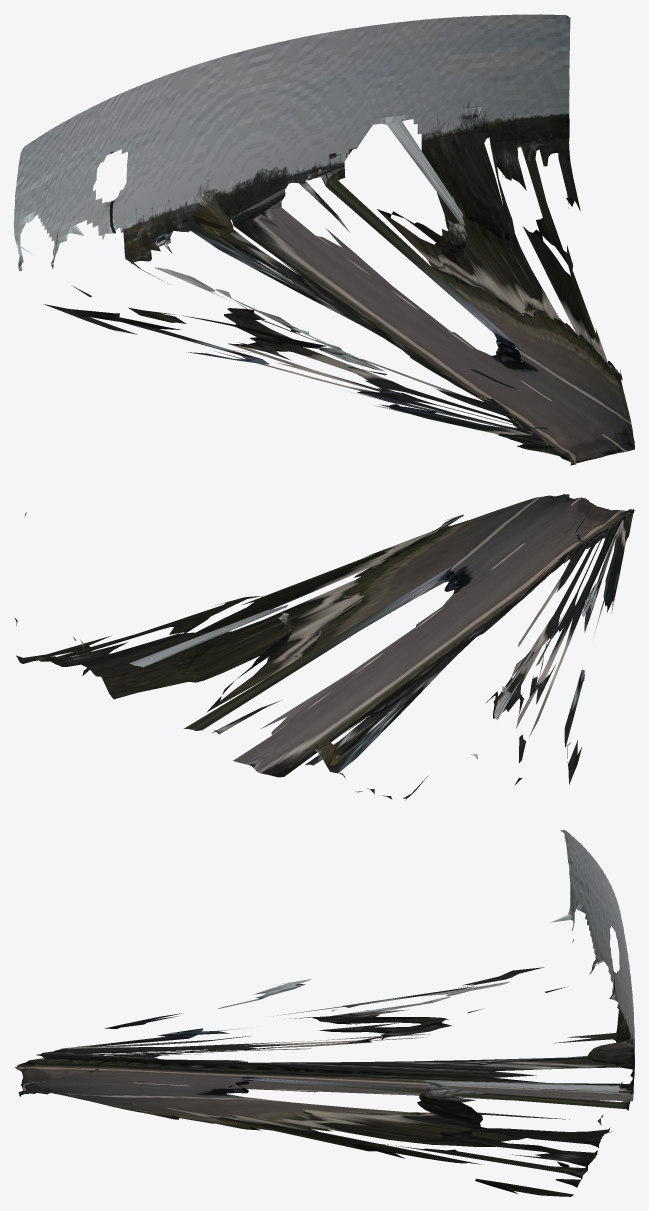
The picture shows the model from 3 angles, top to bottom: view 1: azimuth 30°, elevation 25°; view 2: azimuth 150°, elevation 25°; view 3: azimuth 270°, elevation 25°; orthographic projection. The views are drawn at different scales.
Visible parts, largest first — view 1: defaultobject; view 2: defaultobject; view 3: defaultobject.
Boxes of the visible parts, x1,y1,x2,y2 form: defaultobject: (14, 14, 634, 465); defaultobject: (14, 494, 634, 800); defaultobject: (14, 830, 634, 1196).
Size of the model in its own units: 41.08 by 13.16 by 44.71.
1 material, 1 textured.
